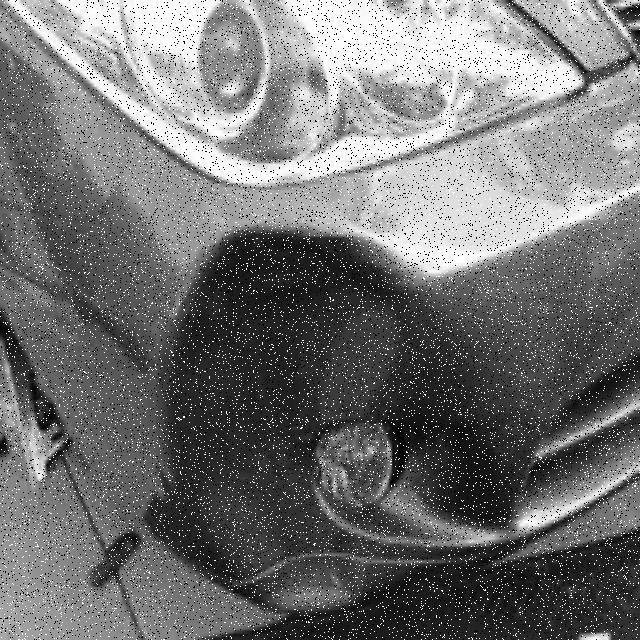front-bumper-dent: (3, 144, 638, 637)
